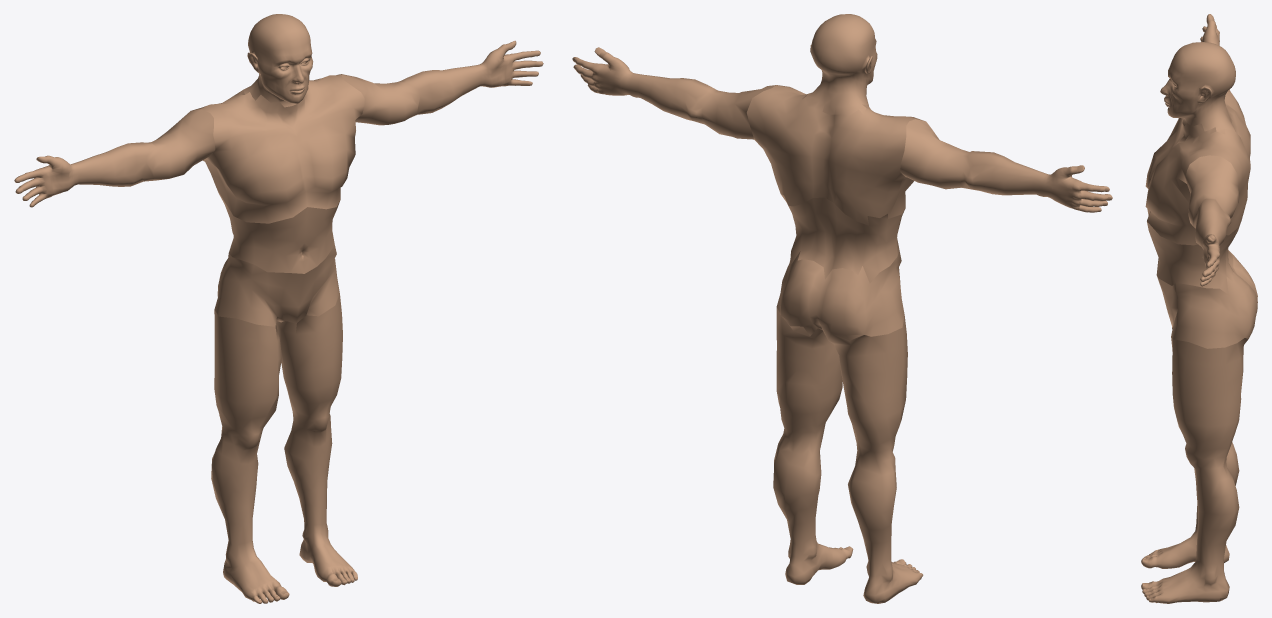
Rendered from male.glb.
3 renders of one model, left to right at view 1: azimuth 30°, elevation 25°; view 2: azimuth 150°, elevation 25°; view 3: azimuth 270°, elevation 25°, orthographic. The views are drawn at different scales.
Parts seen in each view (by area): view 1: chest, rightleg, leftleg, rightarm, leftarm, pelvis, abdomen, head; view 2: chest, rightleg, leftleg, rightarm, pelvis, leftarm, abdomen, head; view 3: leftleg, chest, pelvis, head, leftarm, abdomen, rightleg, rightarm.
Part boxes in pixels (<box>): chest: <box>192,74,364,223</box>; rightleg: <box>211,310,289,603</box>; leftleg: <box>276,293,357,586</box>; rightarm: <box>14,109,215,207</box>; leftarm: <box>341,40,543,125</box>; pelvis: <box>214,245,339,326</box>; abdomen: <box>219,194,339,273</box>; head: <box>239,14,313,107</box>; chest: <box>746,85,923,225</box>; rightleg: <box>828,316,923,603</box>; leftleg: <box>773,307,853,584</box>; rightarm: <box>900,119,1112,212</box>; pelvis: <box>776,250,904,340</box>; leftarm: <box>572,47,775,139</box>; abdomen: <box>781,194,904,283</box>; head: <box>802,14,877,116</box>; leftleg: <box>1141,337,1248,603</box>; chest: <box>1145,91,1250,245</box>; pelvis: <box>1157,255,1257,348</box>; head: <box>1160,42,1235,134</box>; leftarm: <box>1185,155,1238,286</box>; abdomen: <box>1147,208,1237,294</box>; rightleg: <box>1141,327,1239,568</box>; rightarm: <box>1200,14,1230,91</box>.
Bounding box in the file's own units: 1.79 × 1.8 × 0.3558.
